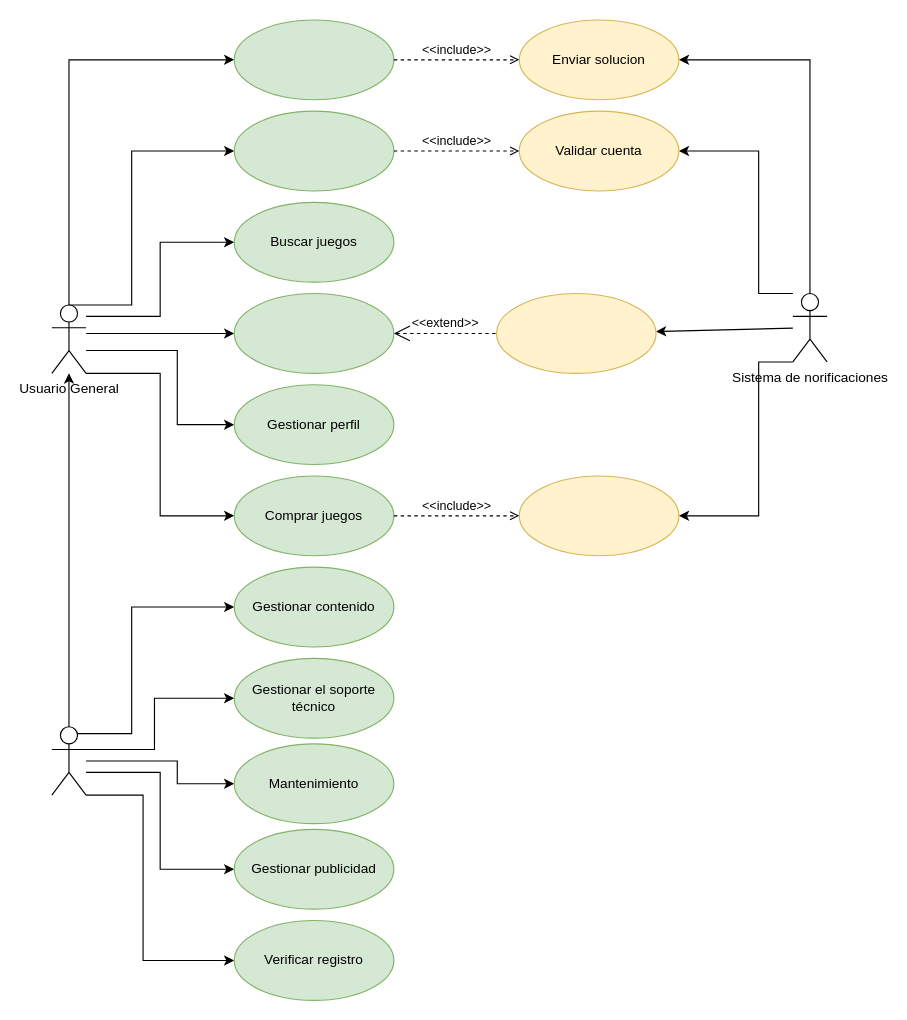
Some shapes in this 907 by 1020 pixel diagram are drawn without their labels. The shapes that lost their labels are listed below. From the top down, each one's centre as x and y in pixels, then its label:
At pixel 313 59: "Solicitar soporte".
At pixel 313 150: "Registrarse".
At pixel 313 332: "Poner comentaios".
At pixel 575 332: "Validar comentario".
At pixel 598 515: "Notificar compra".
At pixel 68 760: "Admisnistrador".
